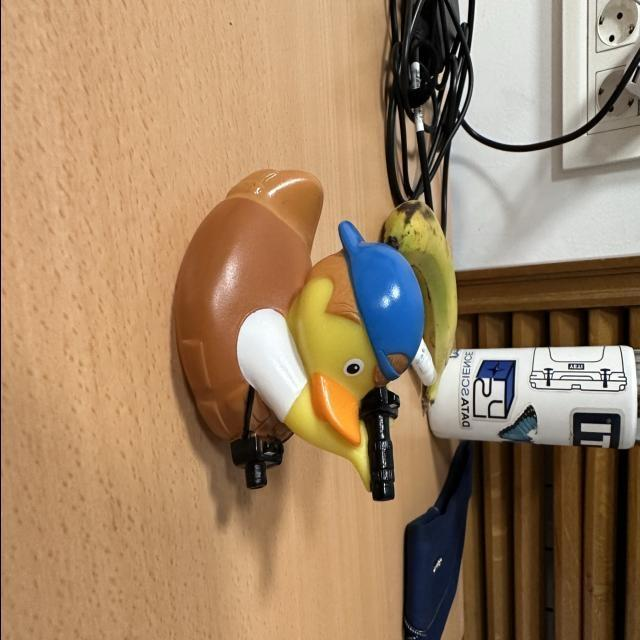rubber-duck: (173, 168, 455, 499)
